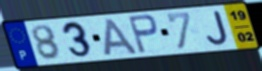3: (61, 20, 96, 60)
7: (165, 11, 194, 52)
8: (30, 24, 62, 61)
A: (103, 18, 140, 57)
J: (205, 9, 231, 47)
P: (126, 13, 161, 55)
